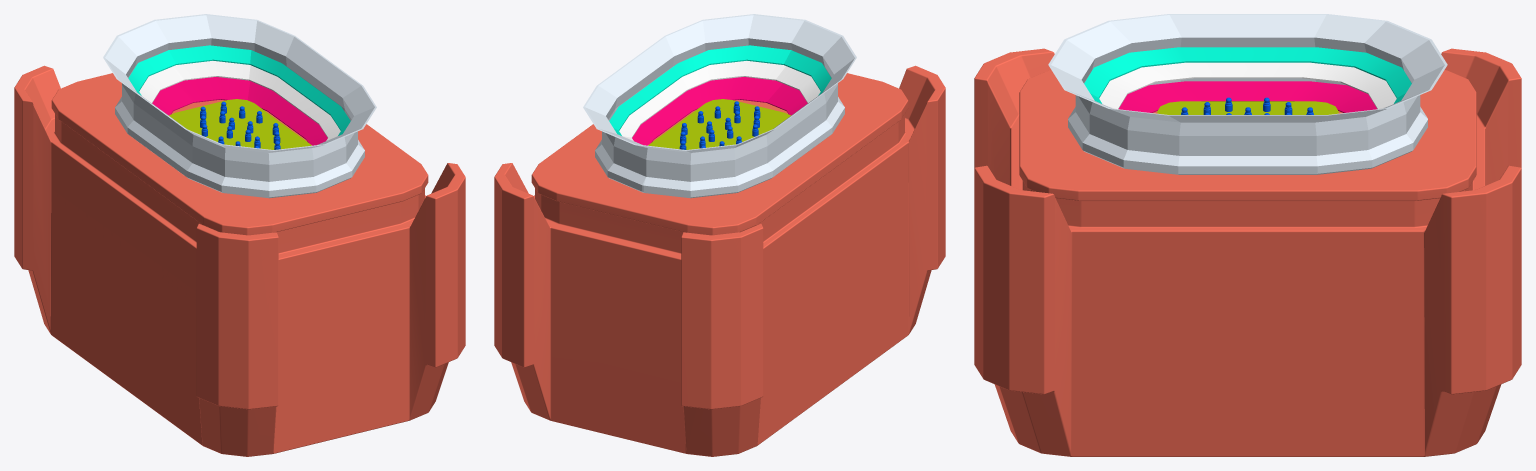
The model's file is stadium.fbx.
The picture shows the model from 3 angles, left to right: view 1: azimuth 30°, elevation 25°; view 2: azimuth 150°, elevation 25°; view 3: azimuth 270°, elevation 25°; orthographic projection. The views are drawn at different scales.
Parts seen in each view (by area): view 1: pCube7, polySurface2, polySurface4, polySurface1, polySurface3, pCube11; view 2: pCube7, polySurface2, polySurface4, polySurface1, polySurface3, pCube11; view 3: pCube7, polySurface2, polySurface1, polySurface3, polySurface4, pCube11.
Part boxes in pixels (bbox=[...]): pCube7: bbox=[14, 65, 465, 456]; polySurface2: bbox=[103, 14, 376, 198]; polySurface4: bbox=[152, 77, 327, 145]; polySurface1: bbox=[128, 45, 350, 135]; polySurface3: bbox=[139, 61, 340, 140]; pCube11: bbox=[169, 99, 311, 149]; pCube7: bbox=[494, 65, 945, 456]; polySurface2: bbox=[583, 14, 856, 198]; polySurface4: bbox=[632, 77, 807, 145]; polySurface1: bbox=[609, 45, 831, 135]; polySurface3: bbox=[619, 61, 820, 140]; pCube11: bbox=[648, 99, 790, 149]; pCube7: bbox=[974, 48, 1521, 456]; polySurface2: bbox=[1048, 14, 1447, 174]; polySurface1: bbox=[1084, 47, 1411, 103]; polySurface3: bbox=[1099, 62, 1396, 109]; polySurface4: bbox=[1119, 81, 1376, 112]; pCube11: bbox=[1157, 101, 1338, 114].
Size of the model in its own units: 13.49 by 13.87 by 20.98.
